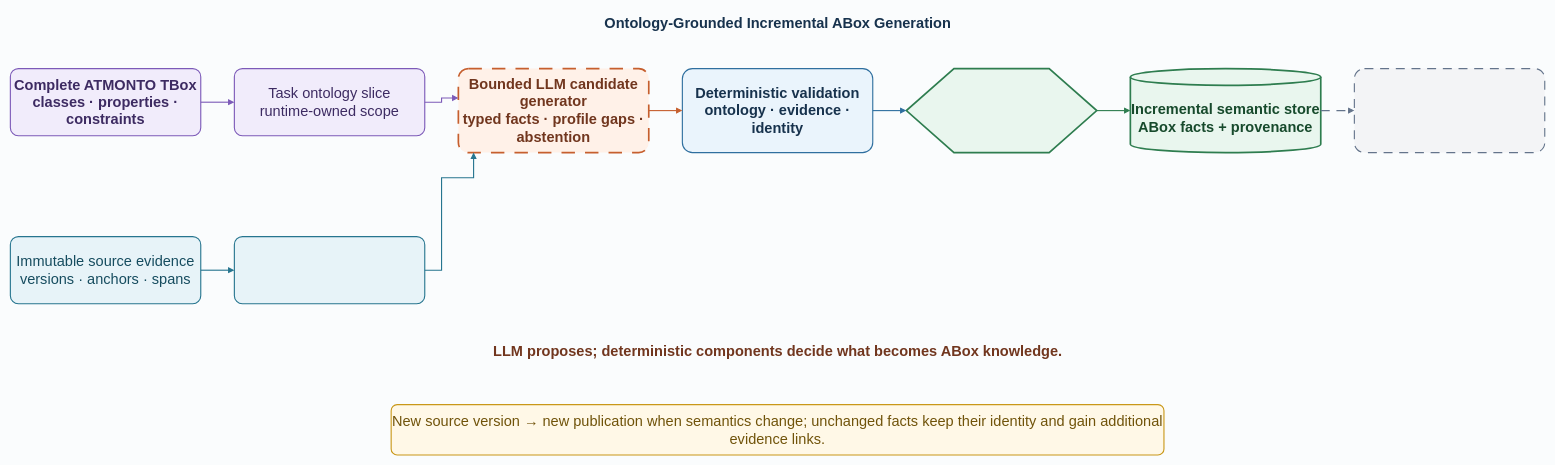
The diagram is 1555 pixels wide and 465 high, and some of its shapes have lost their labels. Here are the shapes that lost their labels. From the top down, the box of each, then its label:
(905, 67, 1097, 153): Formal Publication Kernel accepted facts only
(1354, 68, 1545, 153): Rebuildable HybridRAG views graph · FTS · vectors
(234, 236, 425, 304): Evidence cards candidate entities · source refs
